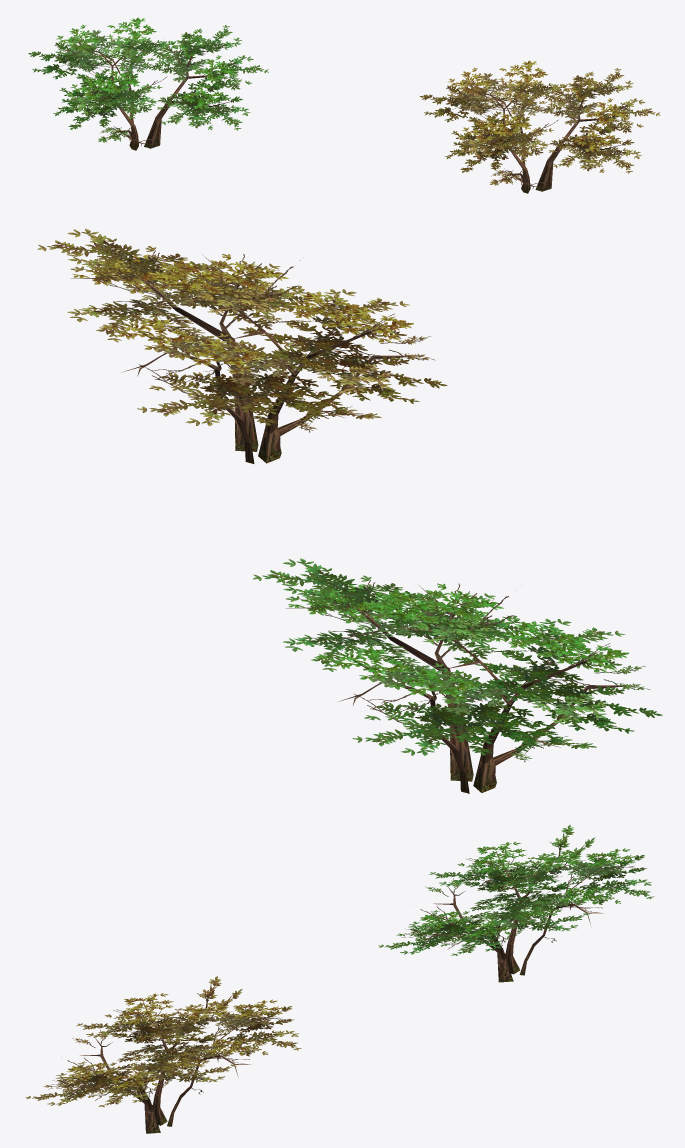
The model's file is JJS_QY_Shu.FBX.
3 renders of one model, top to bottom at view 1: azimuth 30°, elevation 25°; view 2: azimuth 150°, elevation 25°; view 3: azimuth 270°, elevation 25°, orthographic. The views are drawn at different scales.
Visible parts, largest first — view 1: JJS_QY_ShuYe01, JJS_QY_ShuYe002, JJS_QY_ShuGan01, JJS_QY_ShuGan002; view 2: JJS_QY_ShuYe002, JJS_QY_ShuYe01, JJS_QY_ShuGan01, JJS_QY_ShuGan002; view 3: JJS_QY_ShuYe01, JJS_QY_ShuYe002, JJS_QY_ShuGan01, JJS_QY_ShuGan002.
Boxes of the visible parts, x1,y1,x2,y2 form: JJS_QY_ShuYe01: [28, 17, 268, 142]; JJS_QY_ShuYe002: [420, 60, 660, 185]; JJS_QY_ShuGan01: [63, 33, 239, 150]; JJS_QY_ShuGan002: [455, 76, 630, 193]; JJS_QY_ShuYe002: [37, 228, 447, 432]; JJS_QY_ShuYe01: [253, 558, 662, 761]; JJS_QY_ShuGan01: [286, 580, 635, 793]; JJS_QY_ShuGan002: [71, 250, 420, 463]; JJS_QY_ShuYe01: [378, 824, 654, 955]; JJS_QY_ShuYe002: [25, 976, 301, 1107]; JJS_QY_ShuGan01: [401, 850, 642, 982]; JJS_QY_ShuGan002: [48, 1001, 289, 1133].
Bounding box in the file's own units: 3591 × 760 × 3528.
